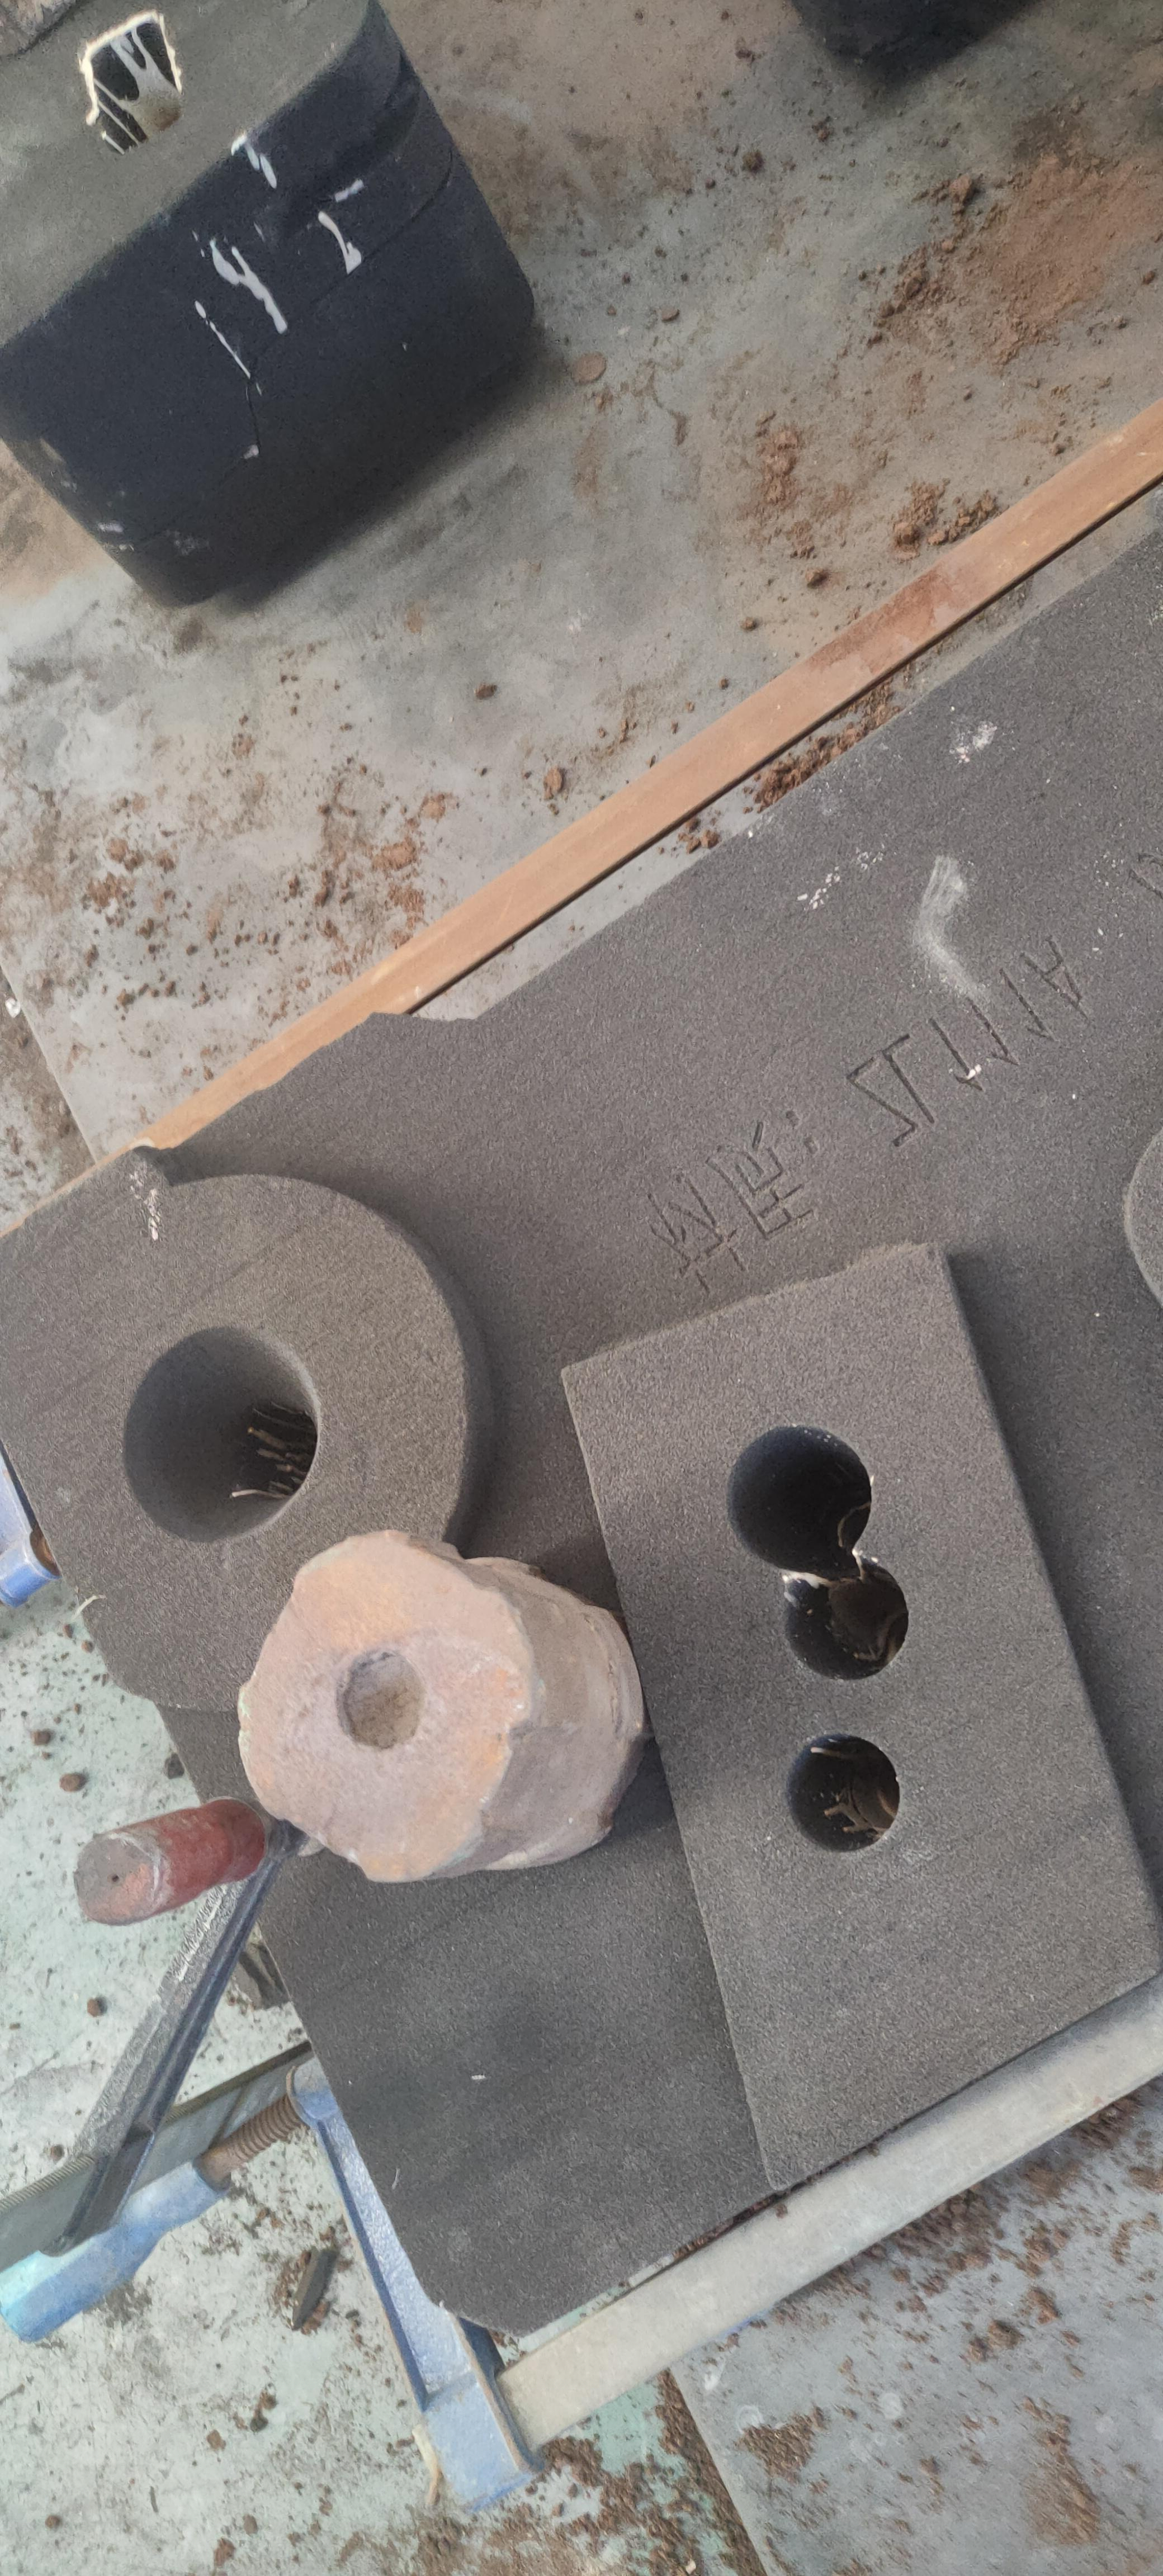pouring hole: (123, 1326, 324, 1541)
